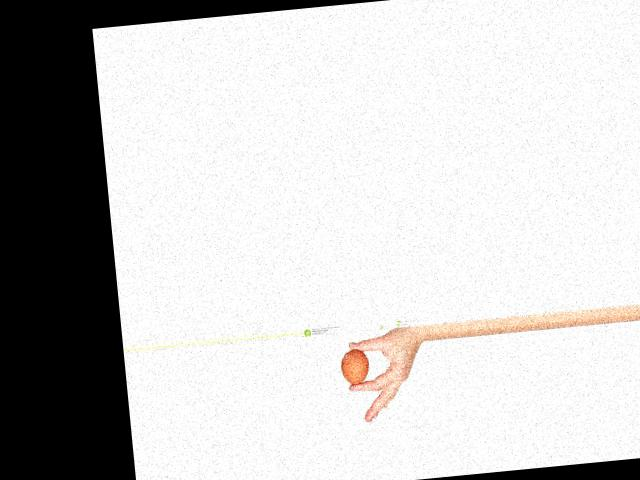egg: (339, 347, 371, 385)
